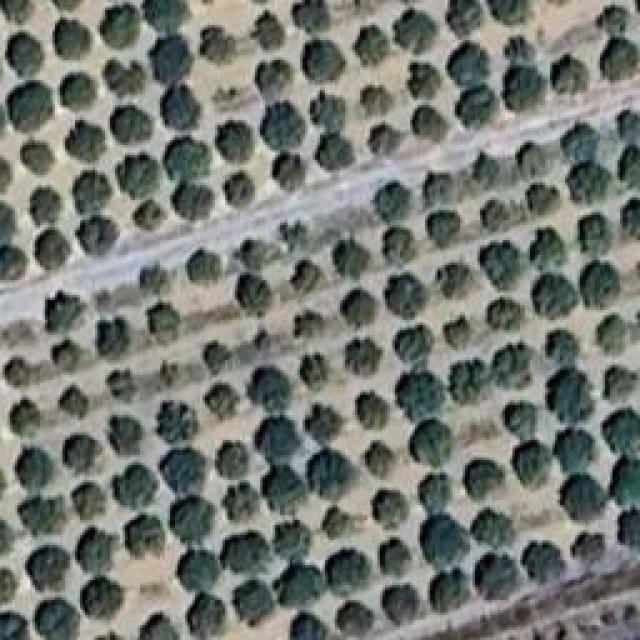Tree: (420, 515, 470, 571), (250, 410, 305, 460), (547, 368, 595, 425), (260, 465, 309, 518), (395, 370, 445, 421), (163, 135, 214, 183), (578, 258, 625, 309), (98, 3, 146, 52), (258, 102, 308, 148), (560, 475, 608, 522), (393, 7, 442, 53), (15, 495, 67, 538), (565, 158, 612, 205), (533, 275, 581, 321), (7, 78, 53, 125), (102, 410, 148, 457), (507, 440, 552, 488), (273, 565, 324, 607), (243, 10, 291, 54), (410, 420, 454, 468), (350, 17, 395, 63), (52, 65, 97, 111), (75, 527, 121, 572), (505, 60, 546, 110), (80, 575, 126, 619), (325, 550, 369, 596), (475, 553, 519, 599), (60, 120, 107, 163), (98, 55, 145, 98), (160, 448, 207, 491), (33, 595, 80, 638), (150, 35, 194, 80), (335, 283, 380, 326), (155, 400, 200, 443), (553, 428, 596, 473), (107, 105, 154, 146), (93, 315, 134, 362), (247, 368, 294, 409), (233, 580, 274, 627), (602, 407, 640, 457), (115, 153, 158, 197), (8, 30, 50, 75), (75, 215, 121, 256), (450, 360, 491, 406), (450, 38, 490, 85), (108, 463, 155, 503), (493, 343, 533, 390), (550, 53, 593, 96), (143, 300, 185, 344), (308, 454, 352, 496), (123, 510, 167, 552), (530, 228, 574, 270), (178, 550, 222, 592), (470, 508, 514, 550), (457, 90, 502, 131), (600, 37, 640, 83), (188, 593, 228, 639), (235, 270, 274, 317), (483, 293, 531, 331), (400, 58, 442, 101), (385, 273, 426, 317), (520, 543, 564, 584), (173, 492, 213, 537), (430, 567, 470, 612), (390, 323, 437, 361), (478, 243, 521, 284), (463, 460, 506, 501), (297, 45, 342, 84), (223, 535, 269, 573), (374, 180, 416, 221), (315, 133, 358, 173), (215, 115, 255, 158), (44, 293, 84, 336), (435, 258, 478, 298), (213, 438, 252, 482), (343, 335, 384, 376), (303, 403, 345, 443), (220, 484, 260, 526), (23, 545, 63, 587), (198, 25, 237, 68), (170, 185, 215, 222), (50, 20, 92, 59), (288, 253, 327, 295), (268, 150, 307, 192), (503, 400, 542, 442), (383, 585, 422, 626), (440, 0, 487, 34), (160, 83, 198, 125), (183, 248, 225, 286), (275, 520, 313, 562), (63, 431, 100, 474), (233, 235, 277, 271), (333, 238, 373, 277), (380, 228, 418, 269), (70, 478, 107, 520), (560, 120, 600, 158), (298, 350, 335, 391), (203, 380, 245, 416), (18, 446, 54, 488), (610, 457, 640, 507), (308, 93, 347, 131), (478, 195, 517, 233), (103, 365, 142, 403), (255, 60, 295, 97), (33, 228, 70, 268), (465, 155, 505, 192), (425, 210, 466, 246), (373, 490, 409, 531), (72, 170, 106, 213), (418, 473, 452, 515), (293, 0, 330, 38), (578, 213, 614, 252), (598, 0, 637, 35), (368, 123, 407, 158), (485, 0, 535, 27), (337, 602, 375, 637), (17, 135, 51, 173), (32, 183, 64, 223), (513, 143, 548, 179), (603, 365, 638, 401), (423, 172, 461, 205), (380, 538, 413, 576), (598, 315, 629, 355), (525, 180, 561, 214), (198, 338, 234, 372), (222, 170, 256, 205), (443, 310, 478, 344), (412, 103, 444, 140), (147, 0, 182, 32), (150, 353, 182, 388), (140, 612, 180, 640), (365, 443, 395, 480), (573, 533, 607, 565), (8, 400, 38, 436), (290, 308, 326, 338), (615, 103, 640, 146), (135, 200, 168, 232), (60, 382, 92, 415), (361, 83, 394, 114), (277, 218, 311, 248), (617, 510, 640, 552), (505, 33, 536, 64), (323, 508, 353, 540), (360, 394, 388, 428), (548, 333, 577, 365), (140, 265, 169, 296), (290, 615, 325, 640), (620, 198, 640, 241), (0, 0, 39, 22), (3, 355, 31, 385), (0, 248, 24, 283), (0, 610, 28, 640), (0, 567, 17, 612), (617, 150, 640, 183), (0, 198, 16, 244), (53, 343, 77, 371), (0, 523, 14, 559), (0, 153, 11, 195), (253, 328, 272, 351)
